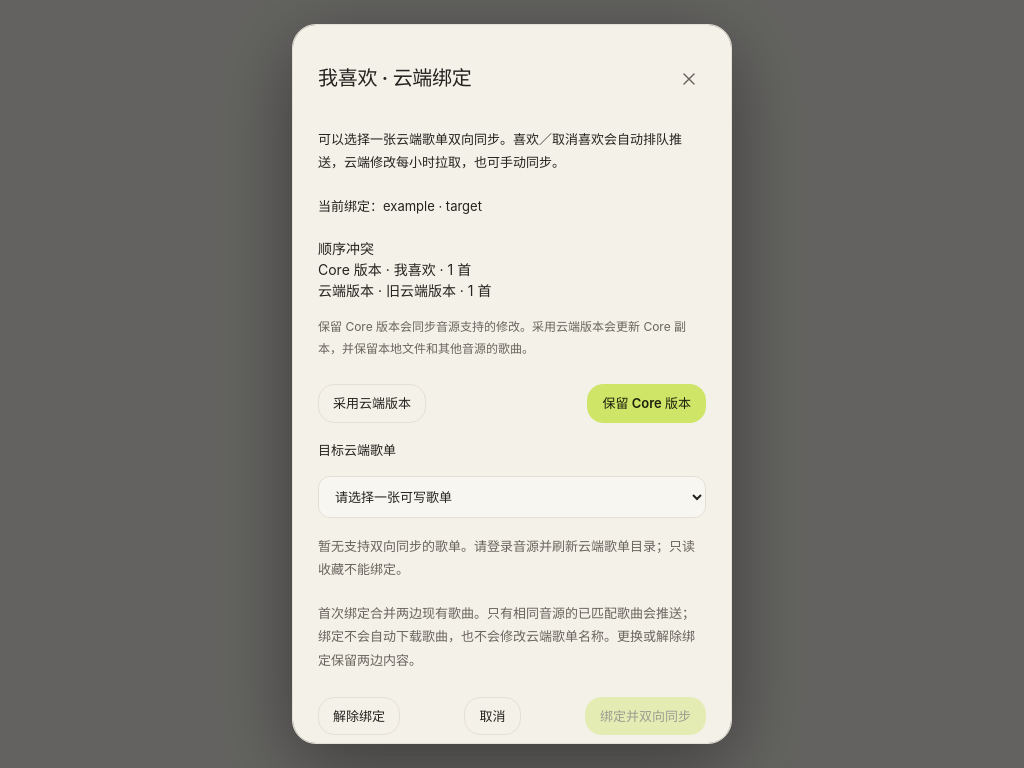
冲突变化后显示最新两边版本，保留对话框并要求再次选择
Later steps or results of the test are not shown.
Click the button "采用云端版本".
click(372, 404)  # box [318,384,426,423]
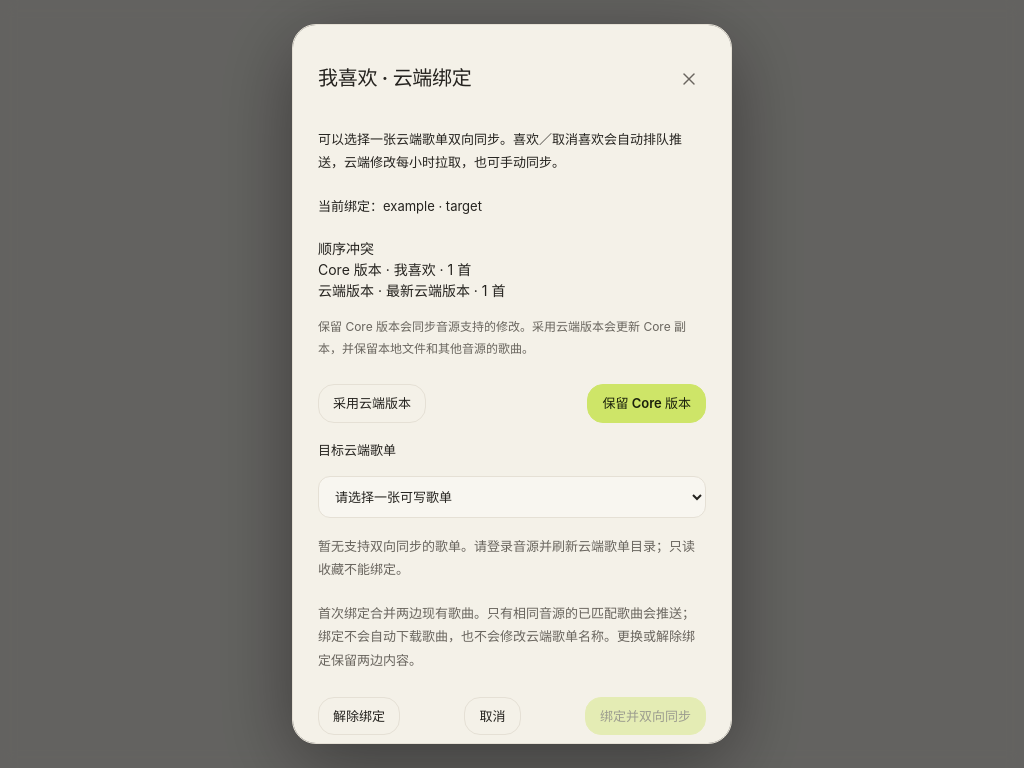
Check: the text "最新云端版本" is shown, box [386,282,470,299]
